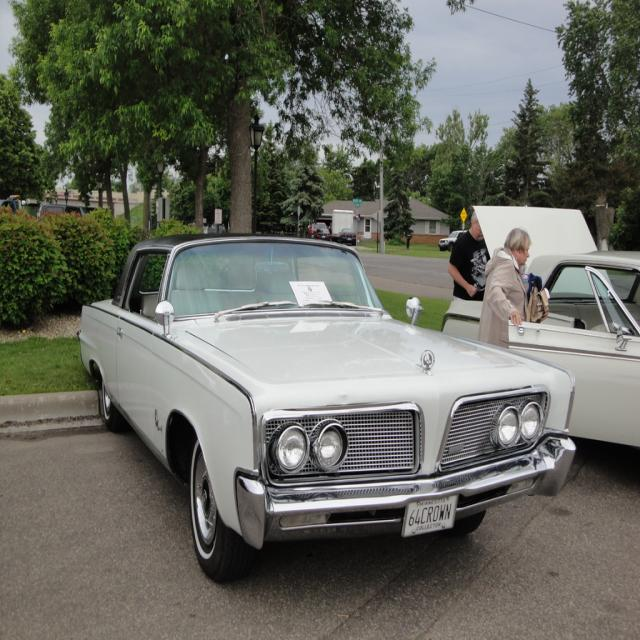car: (75, 230, 576, 584)
